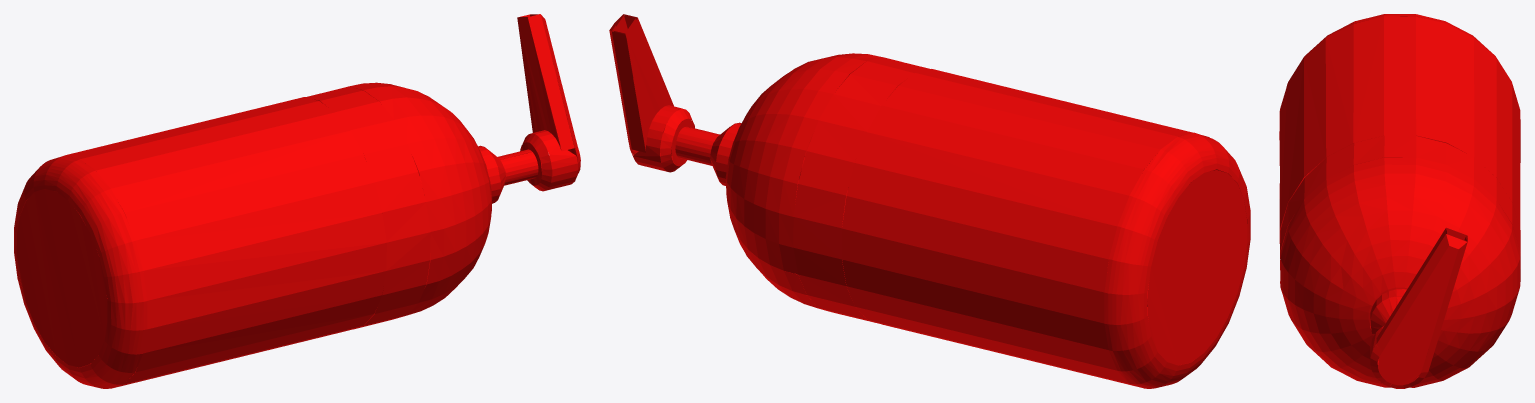
3 renders of one model, left to right at view 1: azimuth 30°, elevation 25°; view 2: azimuth 150°, elevation 25°; view 3: azimuth 270°, elevation 25°, orthographic. The views are drawn at different scales.
Parts seen in each view (by area): view 1: Renderer Node; view 2: Renderer Node; view 3: Renderer Node.
Boxes of the visible parts, box(x1,y1,x2,y2) form: Renderer Node: box(14, 14, 580, 388); Renderer Node: box(609, 14, 1250, 388); Renderer Node: box(1279, 14, 1520, 388).
Size of the model in its own units: 0.8596 by 0.3764 by 0.3475.
Materials: 1 (1 with a texture image).
